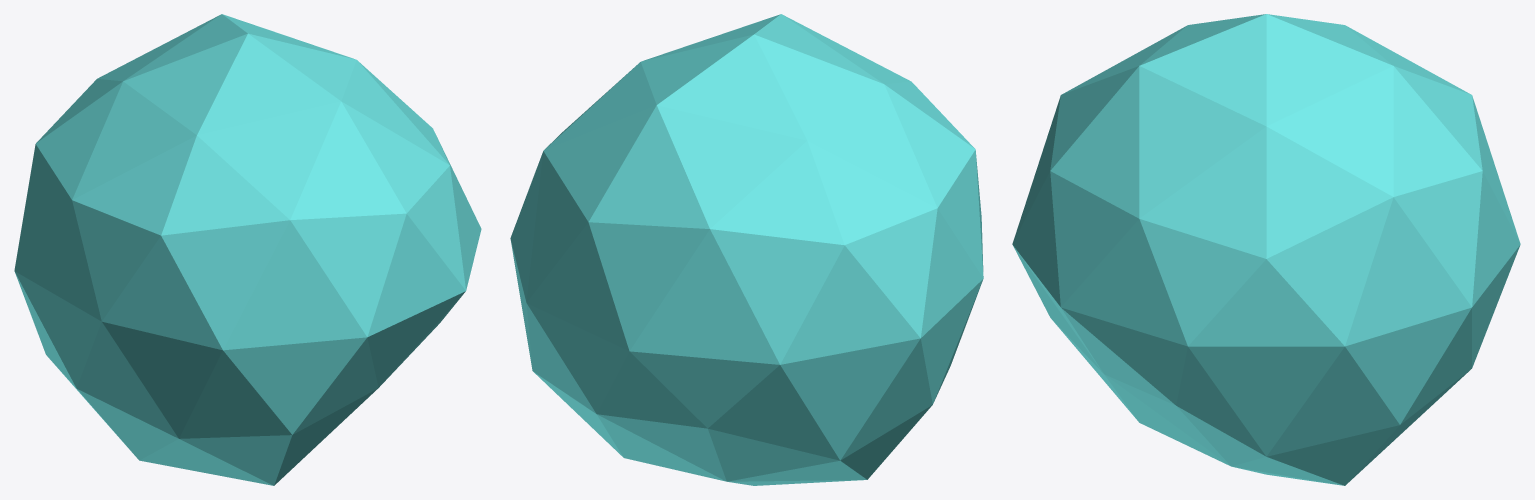
The model's file is Comet.fbx.
The picture shows the model from 3 angles, left to right: view 1: azimuth 30°, elevation 25°; view 2: azimuth 150°, elevation 25°; view 3: azimuth 270°, elevation 25°; orthographic projection. The views are drawn at different scales.
Visible parts, largest first — view 1: Icosphere; view 2: Icosphere; view 3: Icosphere.
Part boxes in pixels (x1=…): Icosphere: x1=14, y1=14, x2=481, y2=485; Icosphere: x1=510, y1=14, x2=983, y2=485; Icosphere: x1=1012, y1=14, x2=1520, y2=485.
Bounding box in the file's own units: 190 × 200 × 200.
